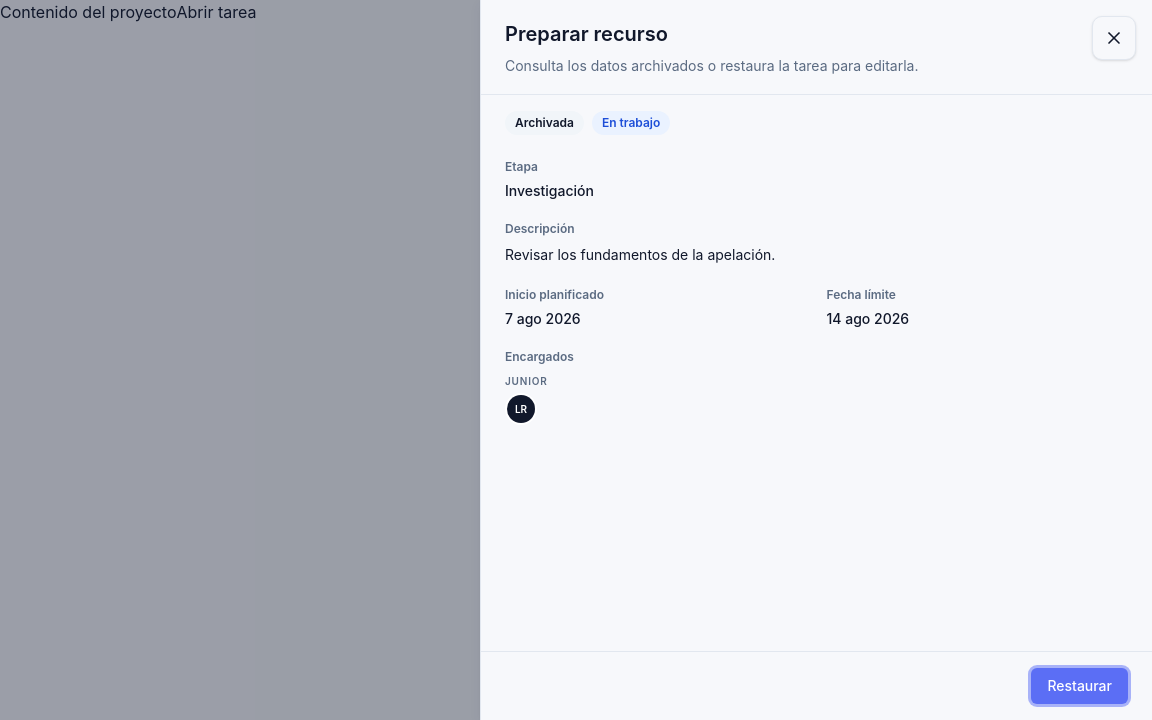
Test case: ProjectTaskSheet › shows a contextual error when restore itself fails
Click the button "Restaurar" at (1080,686), box top-left (1031, 668), bottom-right (1128, 704)
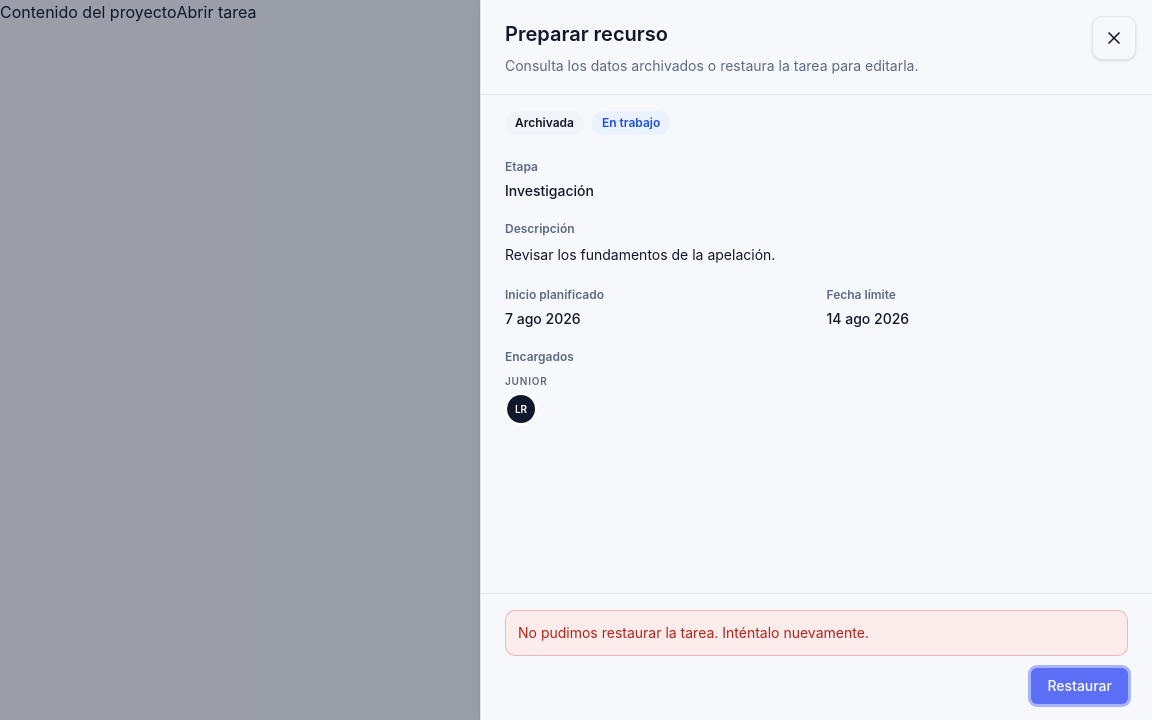
Now the message reads "No pudimos restaurar la tarea. Inténtalo nuevamente.", box top-left (518, 624), bottom-right (869, 641)
